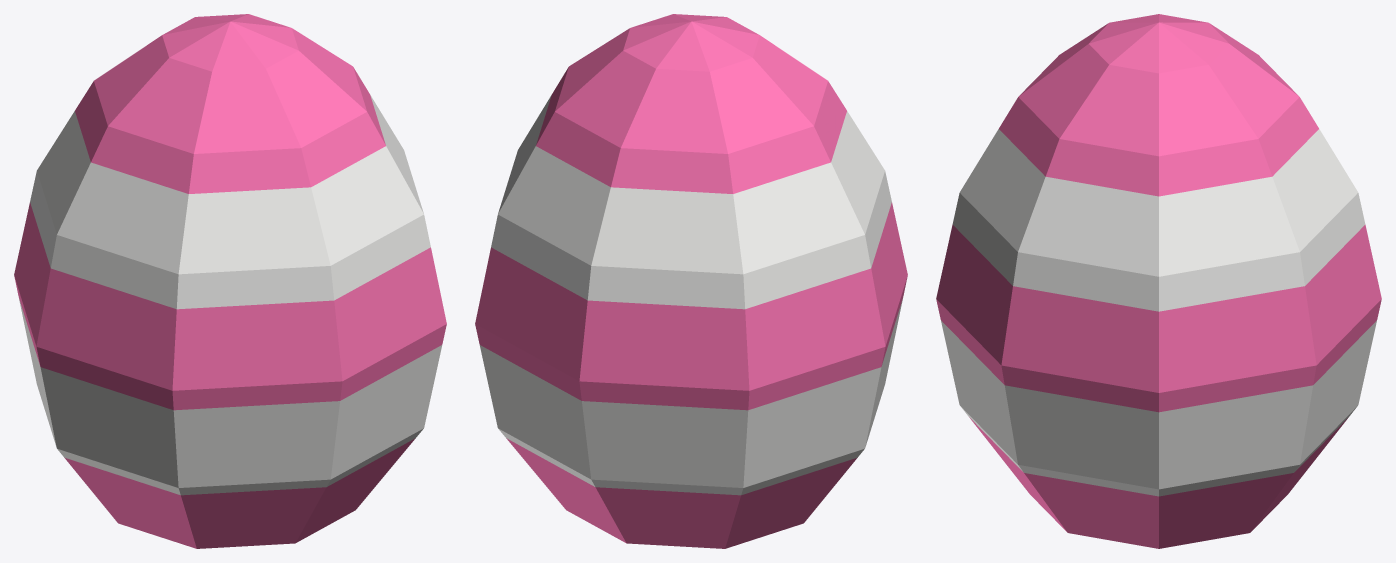
File: StripedEasterEgg.fbx
3 views of the same model, side by side, from view 1: azimuth 30°, elevation 25°; view 2: azimuth 150°, elevation 25°; view 3: azimuth 270°, elevation 25° (orthographic).
Visible parts, largest first — view 1: StripedEasterEgg; view 2: StripedEasterEgg; view 3: StripedEasterEgg.
Part boxes in pixels (<box>): StripedEasterEgg: <box>14,14,446,548</box>; StripedEasterEgg: <box>475,14,907,548</box>; StripedEasterEgg: <box>936,14,1381,548</box>.
Size of the model in its own units: 1.9 by 2.3 by 1.9.
1 material, 1 textured.
